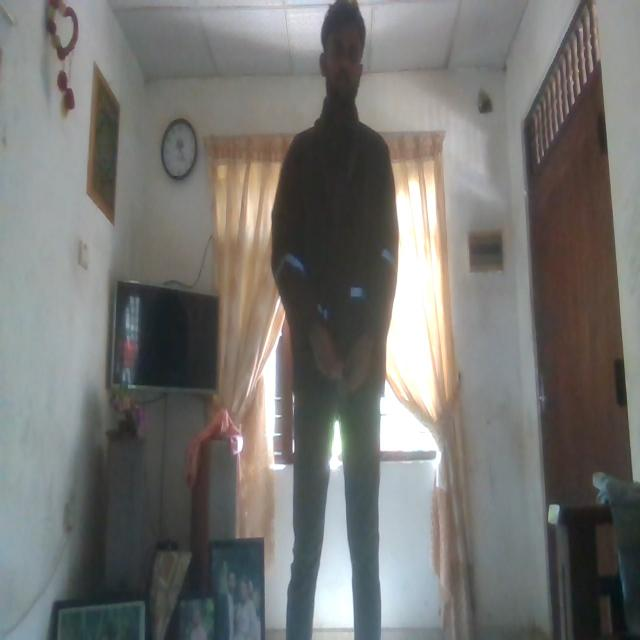Jacket_Wearer: (264, 125, 406, 422)
Person: (268, 2, 397, 640)
